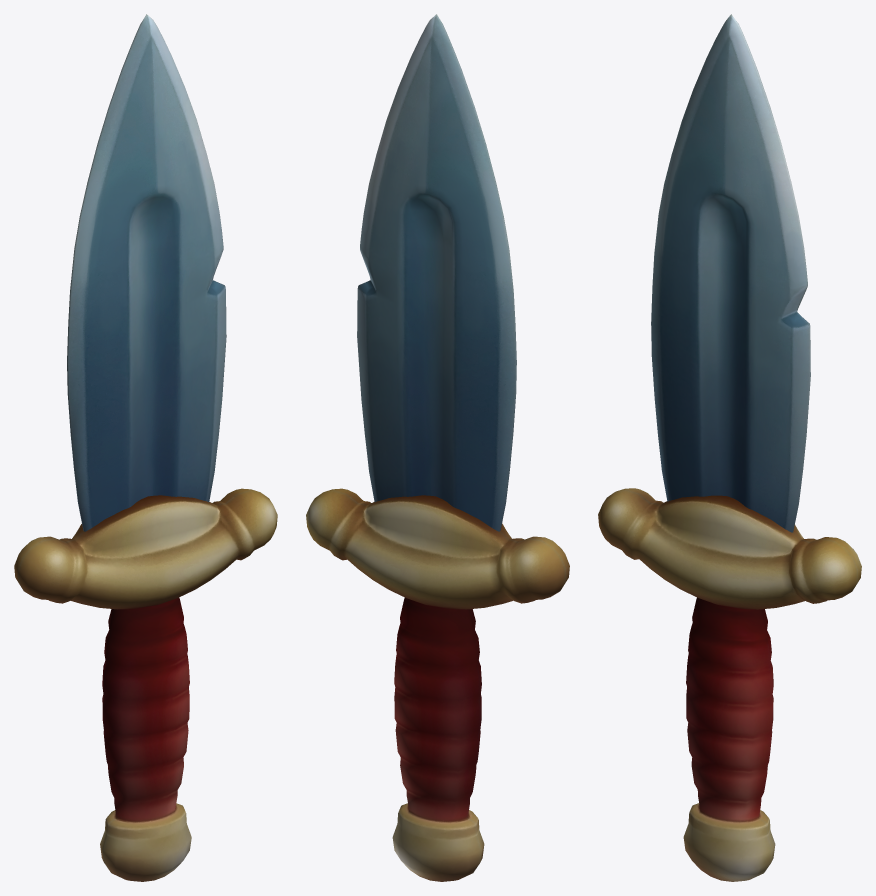
The model's file is Dagger.FBX.
The picture shows the model from 3 angles, left to right: view 1: azimuth 30°, elevation 25°; view 2: azimuth 150°, elevation 25°; view 3: azimuth 330°, elevation 25°; orthographic projection.
Parts seen in each view (by area): view 1: Dagger; view 2: Dagger; view 3: Dagger.
Part boxes in pixels (x1=…): Dagger: x1=14, y1=14, x2=277, y2=881; Dagger: x1=306, y1=14, x2=569, y2=881; Dagger: x1=598, y1=14, x2=861, y2=881.
Bounding box in the file's own units: 20.4 × 5.94 × 66.03.
Materials: 1 (1 with a texture image).
